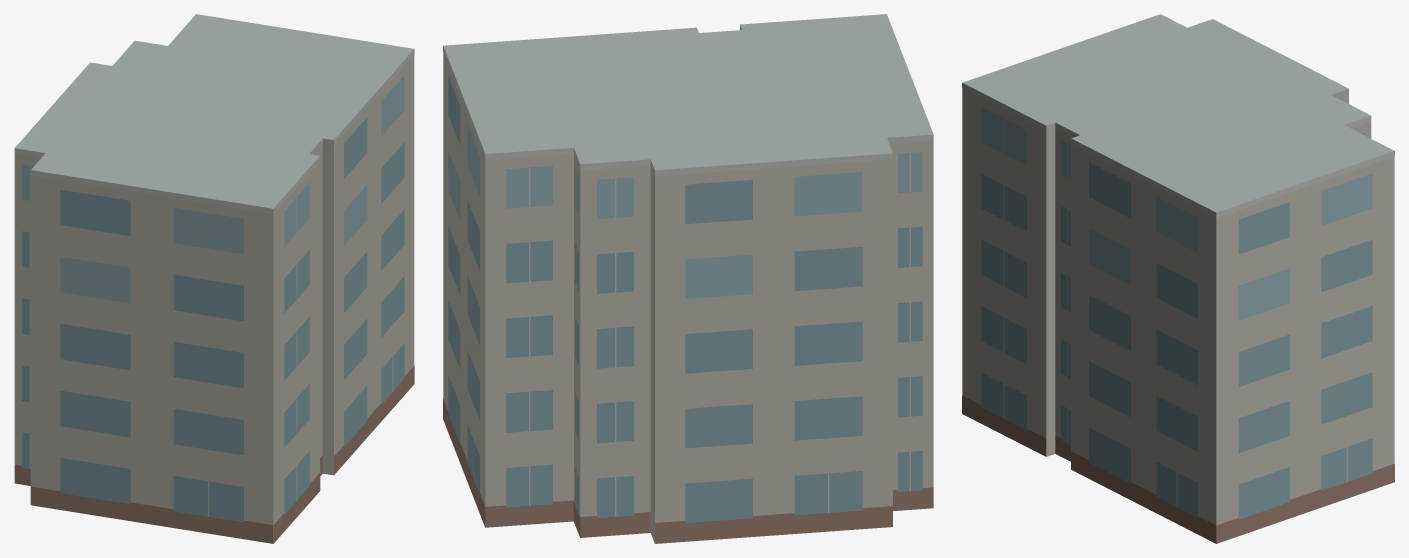
Rendered from survey-upis-32667986.glb.
3 views of the same model, side by side, from view 1: azimuth 30°, elevation 25°; view 2: azimuth 150°, elevation 25°; view 3: azimuth 270°, elevation 25° (orthographic). The views are drawn at different scales.
Visible parts, largest first — view 1: survey-upis-32667986.tmp; view 2: survey-upis-32667986.tmp; view 3: survey-upis-32667986.tmp.
Boxes of the visible parts, box(x1,y1,x2,y2) form: survey-upis-32667986.tmp: box(14, 14, 414, 543); survey-upis-32667986.tmp: box(443, 14, 933, 543); survey-upis-32667986.tmp: box(962, 14, 1394, 543).
Size of the model in its own units: 19.43 by 15.1 by 17.88.
